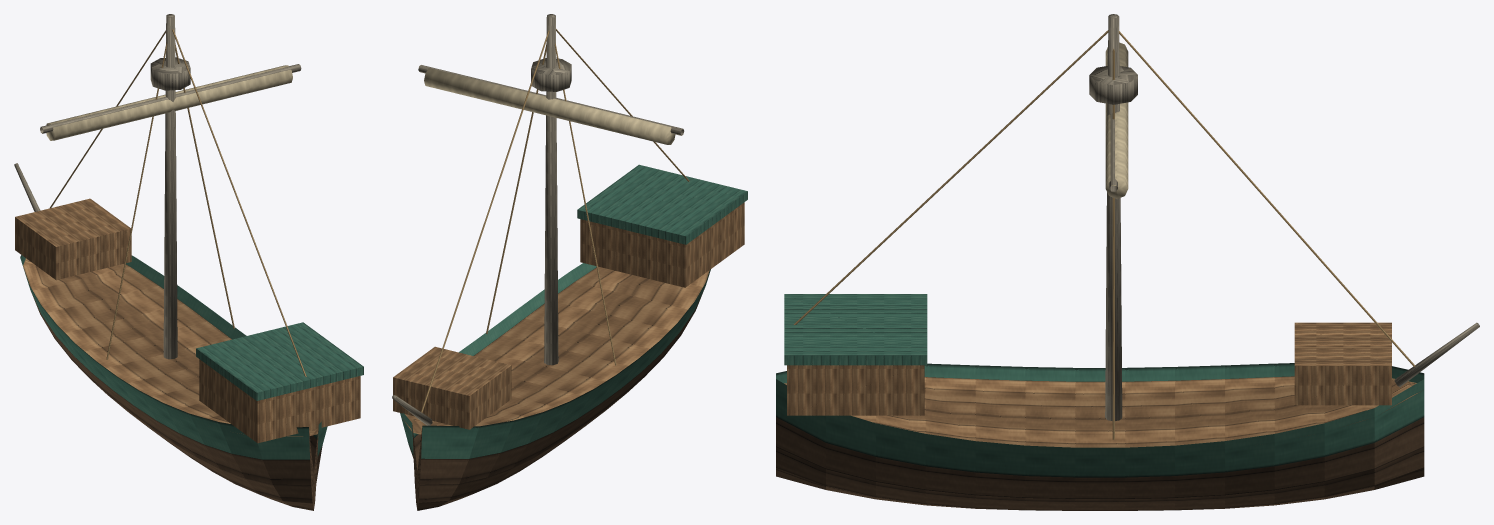
Rendered from Ship_Cog_1.gltf.
The picture shows the model from 3 angles, left to right: view 1: azimuth 30°, elevation 25°; view 2: azimuth 150°, elevation 25°; view 3: azimuth 270°, elevation 25°; orthographic projection. The views are drawn at different scales.
Visible parts, largest first — view 1: Ship_Cog_1; view 2: Ship_Cog_1; view 3: Ship_Cog_1.
Part boxes in pixels (left/top/right/bottom): Ship_Cog_1: left=14, top=14, right=363, bottom=510; Ship_Cog_1: left=392, top=14, right=747, bottom=510; Ship_Cog_1: left=776, top=14, right=1479, bottom=510.
Bounding box in the file's own units: 13 × 20.2 × 26.05.
6 materials, 6 textured.
